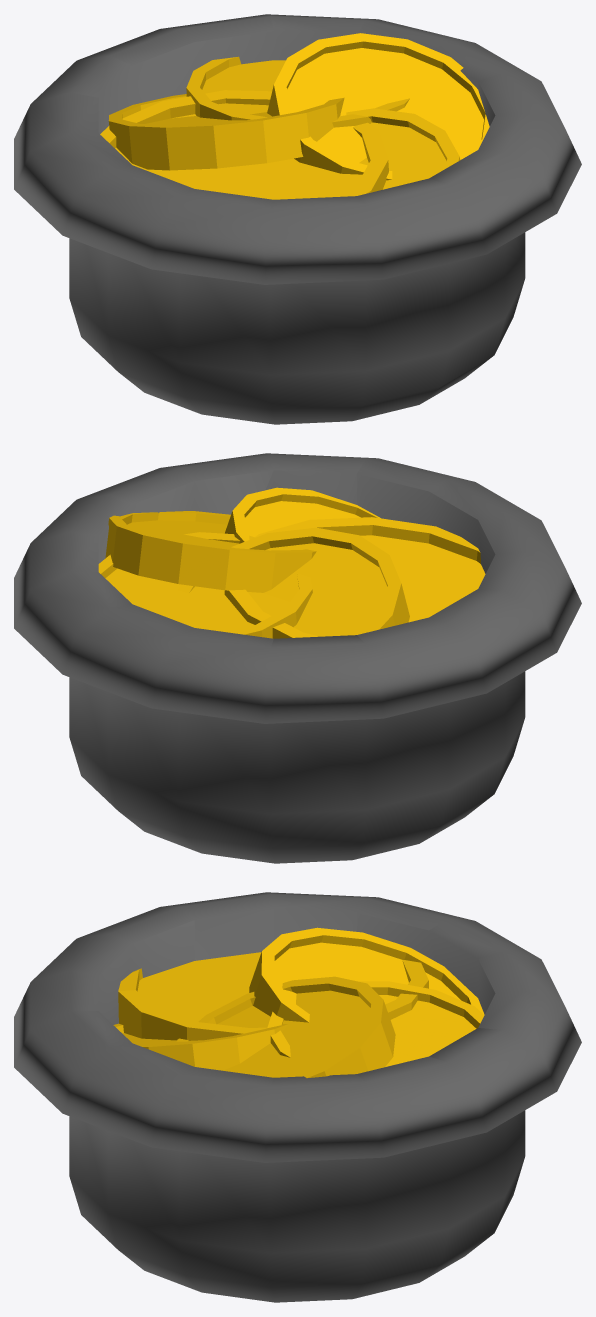
File: Pot of gold.fbx
3 renders of one model, top to bottom at view 1: azimuth 30°, elevation 25°; view 2: azimuth 150°, elevation 25°; view 3: azimuth 270°, elevation 25°, orthographic.
Parts seen in each view (by area): view 1: Cylinder.002; view 2: Cylinder.002; view 3: Cylinder.002.
Boxes of the visible parts, left/top/right/bottom form: Cylinder.002: left=14, top=14, right=581, bottom=424; Cylinder.002: left=14, top=453, right=581, bottom=863; Cylinder.002: left=14, top=892, right=581, bottom=1302.
Bounding box in the file's own units: 100 × 52.03 × 99.8.
